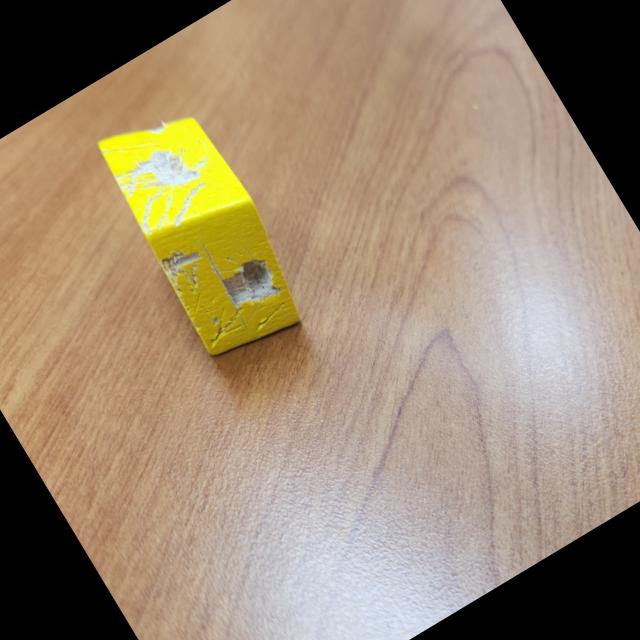broken: (87, 89, 320, 373)
